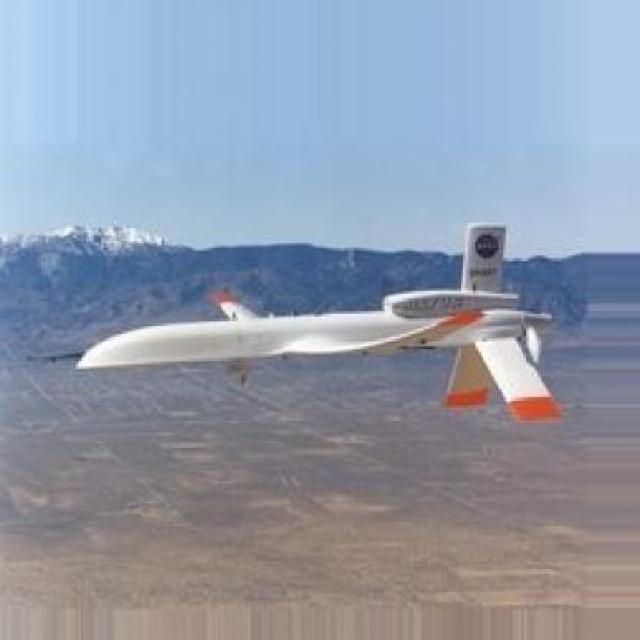iha: (82, 221, 562, 449)
